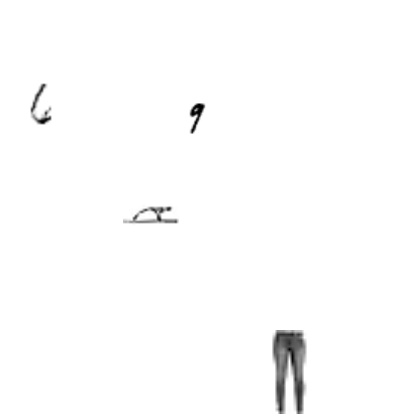1: (101, 69, 213, 181)
2: (301, 108, 413, 220)
Pullover: (27, 195, 83, 251)
Sandal: (204, 204, 260, 260)
Trouser: (113, 182, 197, 266)
